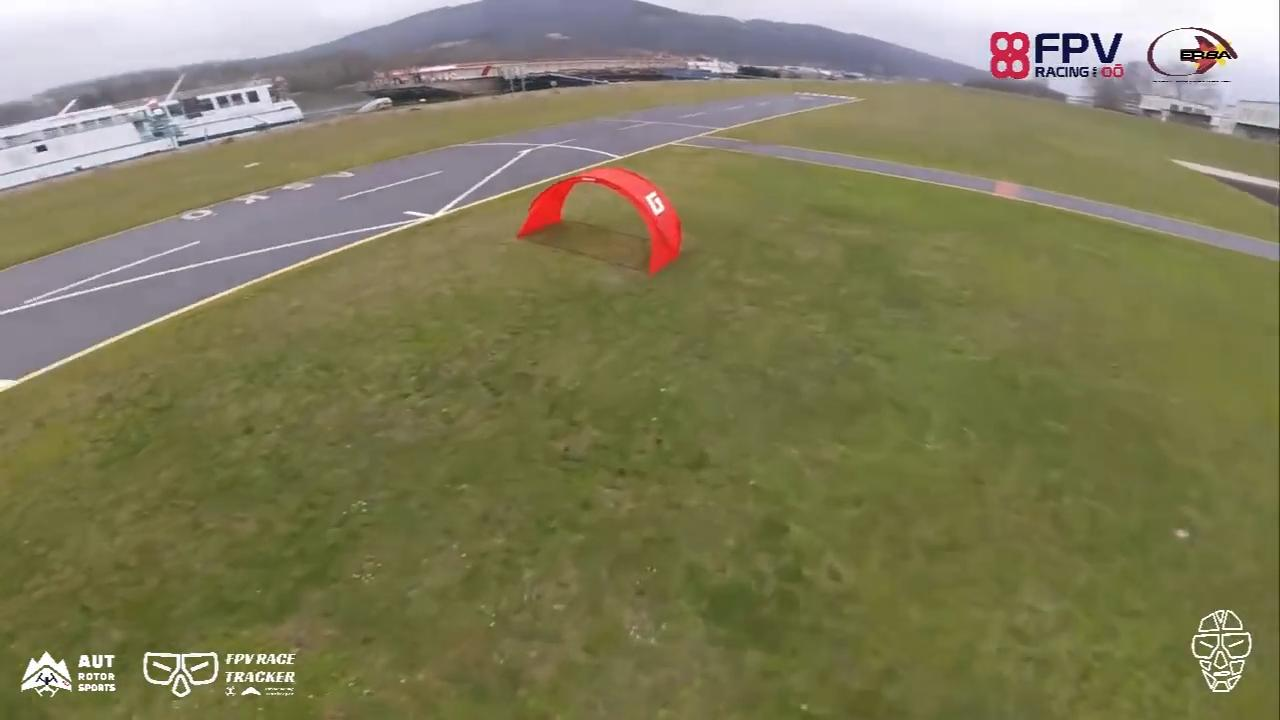gate: (518, 165, 682, 277)
